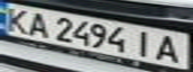2: (51, 15, 75, 44)
4: (106, 24, 130, 53), (69, 18, 93, 47)
9: (87, 21, 109, 48)
A: (151, 33, 187, 64), (24, 10, 54, 38)
I: (130, 28, 160, 58)
K: (0, 5, 33, 35)
